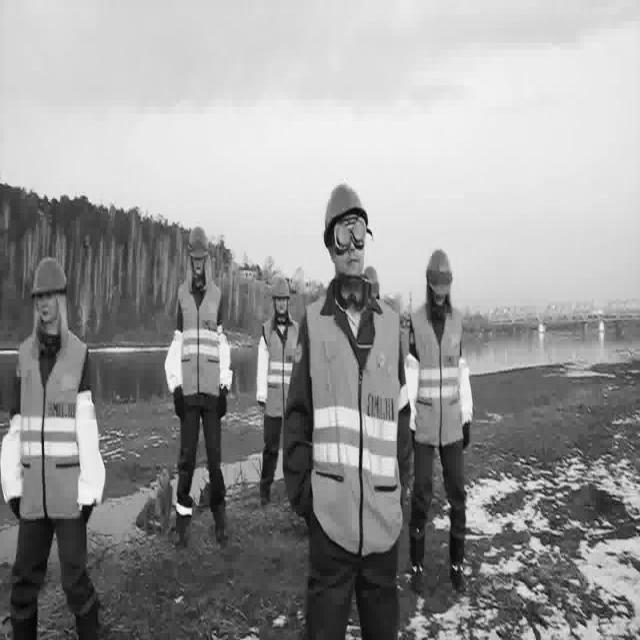10: (302, 185, 407, 640), (1, 260, 100, 640), (405, 245, 473, 593), (169, 230, 231, 552), (252, 278, 300, 504)
11: (306, 292, 402, 558), (15, 328, 90, 520), (411, 298, 464, 445), (175, 276, 221, 394), (260, 316, 300, 418)
2: (319, 184, 380, 275), (29, 260, 69, 328), (422, 246, 456, 314), (182, 225, 216, 276), (270, 277, 292, 317)
helmet_white: (444, 526, 474, 592), (70, 589, 108, 640), (406, 520, 432, 594), (166, 500, 202, 552), (8, 595, 45, 640)
